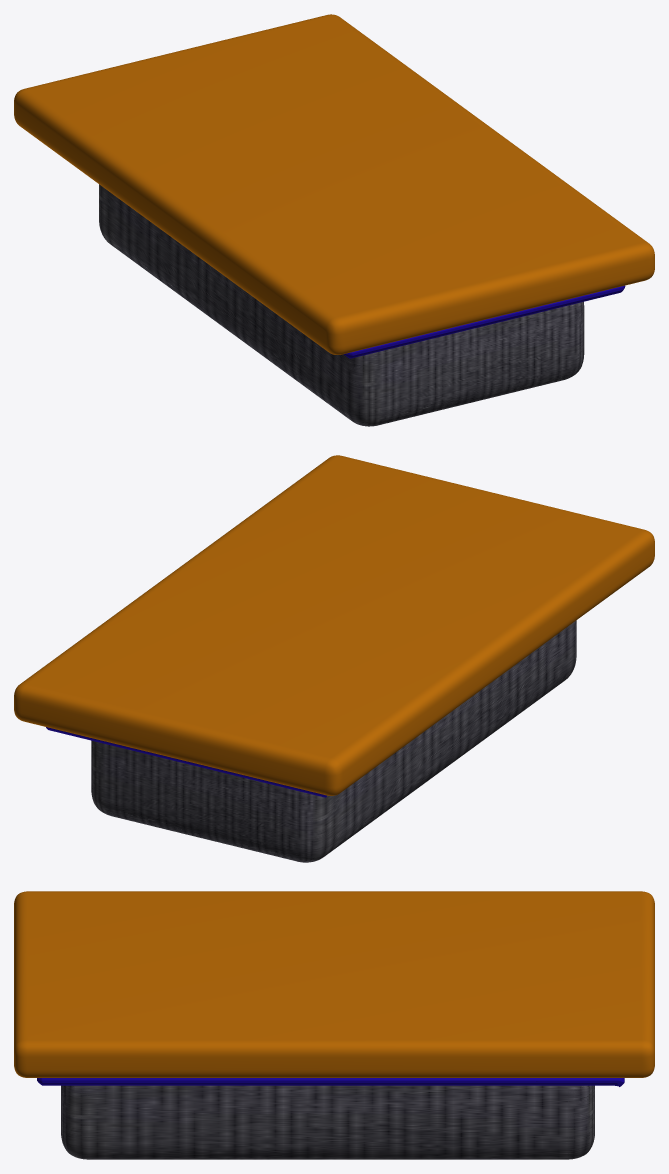
The picture shows the model from 3 angles, top to bottom: view 1: azimuth 30°, elevation 25°; view 2: azimuth 150°, elevation 25°; view 3: azimuth 270°, elevation 25°; orthographic projection.
Parts seen in each view (by area): view 1: Box001; view 2: Box001; view 3: Box001.
Boxes of the visible parts, left/top/right/bottom form: Box001: left=14, top=14, right=654, bottom=426; Box001: left=14, top=455, right=654, bottom=862; Box001: left=14, top=891, right=654, bottom=1159.
Bounding box in the file's own units: 14 × 5.89 × 24.
Materials: 3 (1 with a texture image).
